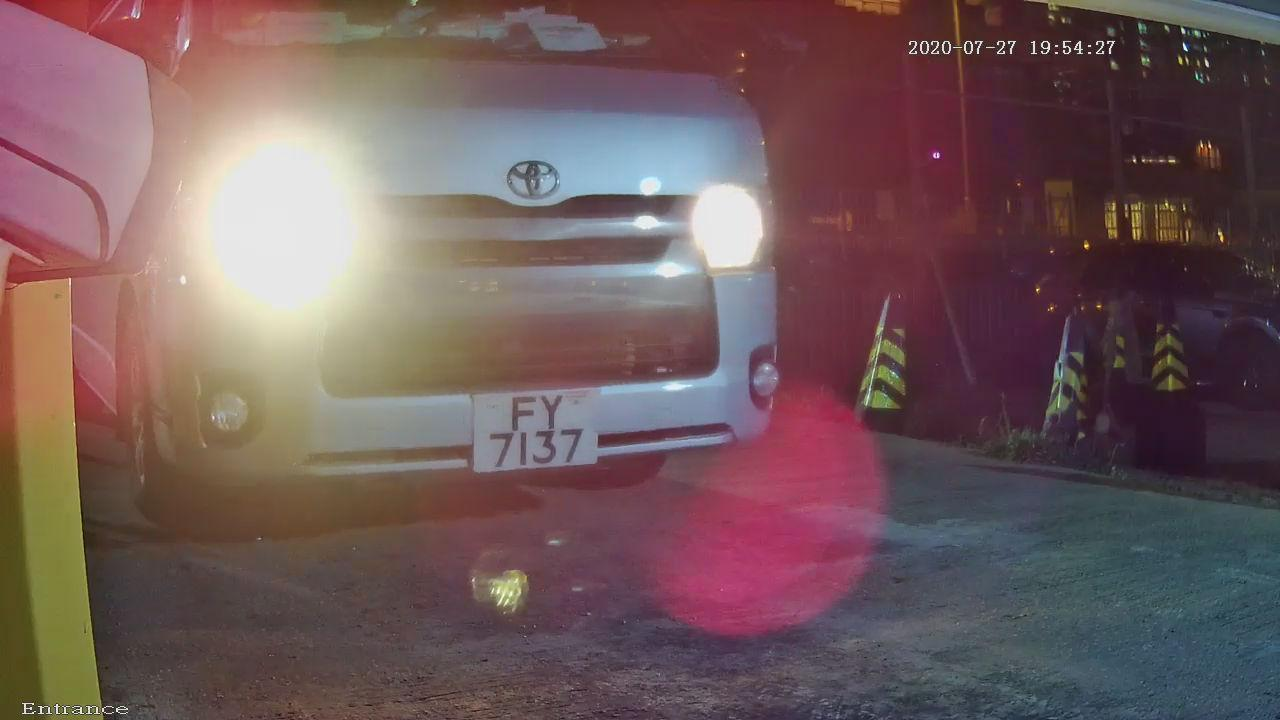privatecar: (41, 4, 932, 579)
